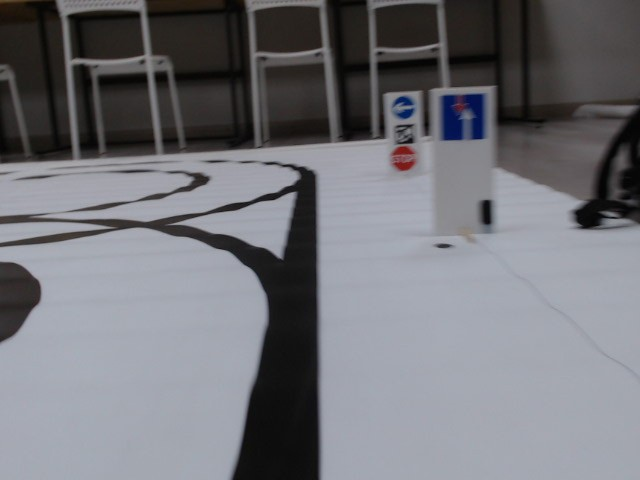Stop: (390, 146, 416, 170)
priority_movement: (438, 93, 489, 143)
